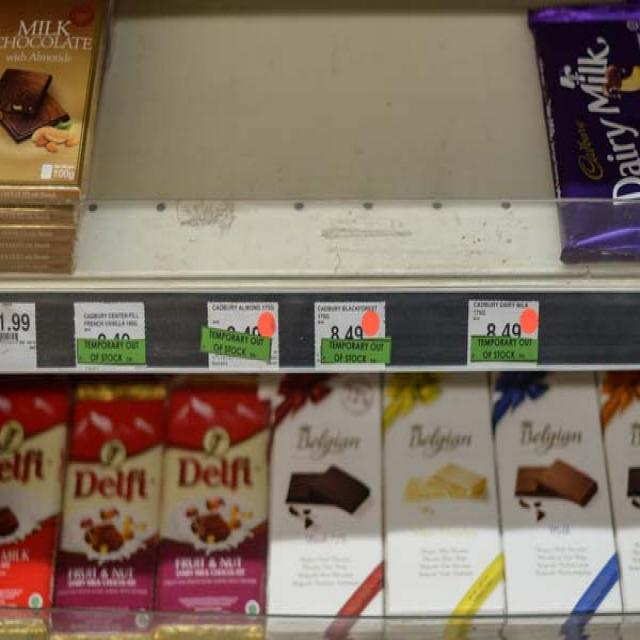cadbury: (538, 8, 640, 248)
